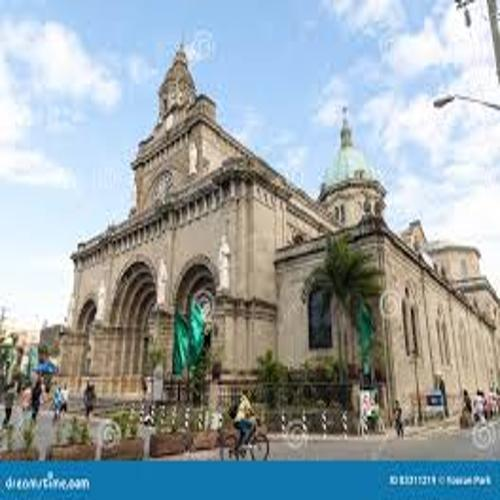Manila Cathedral Church: (41, 31, 483, 427)
